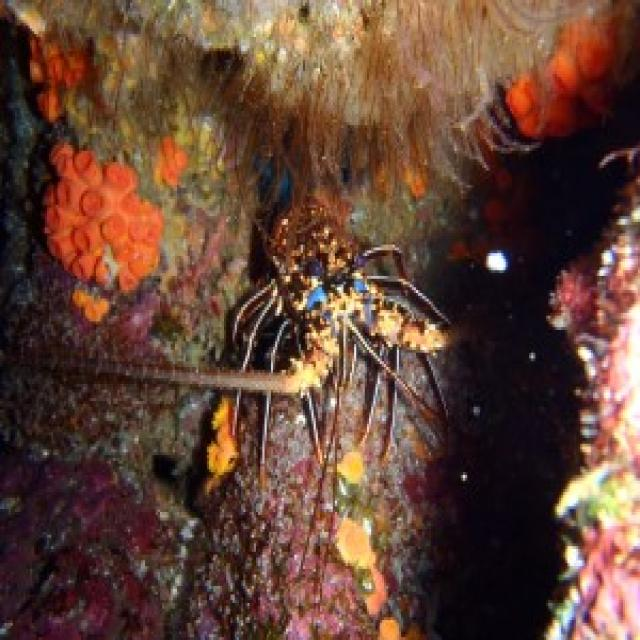lobsters: (109, 131, 524, 475)
